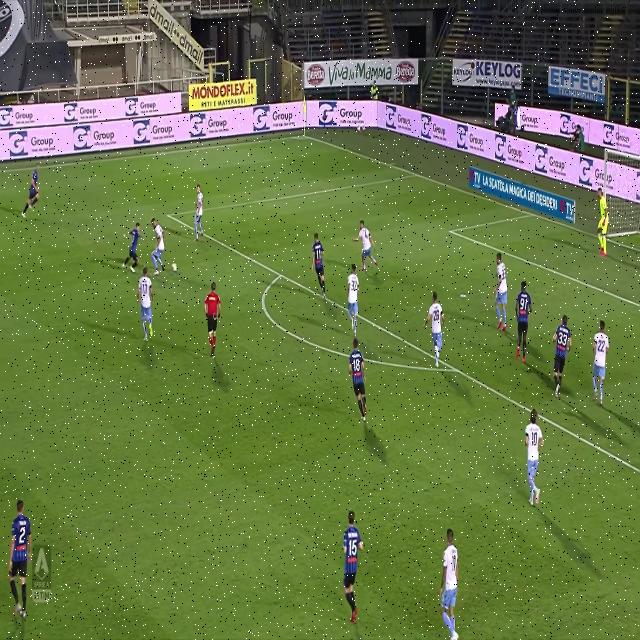Ball: (170, 258, 179, 278)
GoalKeeper: (595, 178, 613, 260)
TEAM 1: (438, 527, 467, 633), (521, 408, 548, 513), (589, 315, 611, 410), (425, 288, 450, 370), (489, 248, 511, 339), (356, 212, 381, 276), (138, 266, 158, 344), (347, 266, 363, 340), (151, 213, 168, 276), (192, 182, 207, 246)
TEAM 2: (338, 503, 363, 630), (8, 493, 32, 622), (307, 220, 338, 300), (343, 335, 370, 424), (550, 305, 574, 398), (515, 276, 534, 364), (20, 158, 44, 224), (120, 212, 143, 274)
